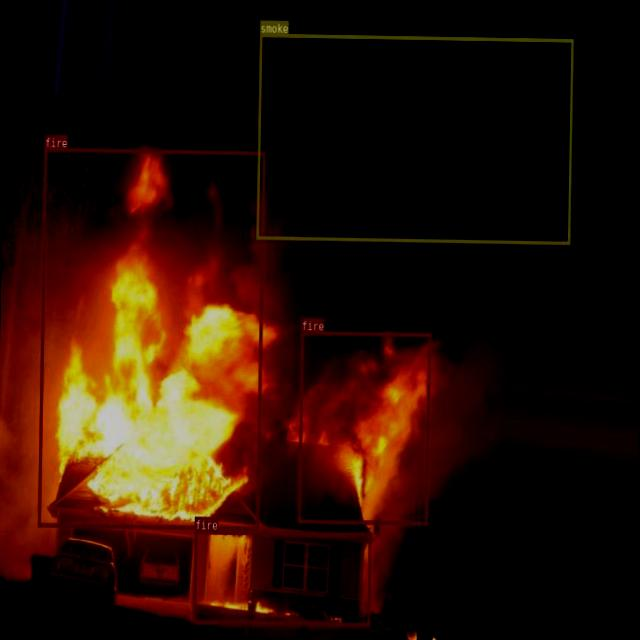fire: (36, 146, 264, 530), (297, 330, 430, 524), (192, 529, 371, 626)
smoke: (255, 32, 573, 244)
